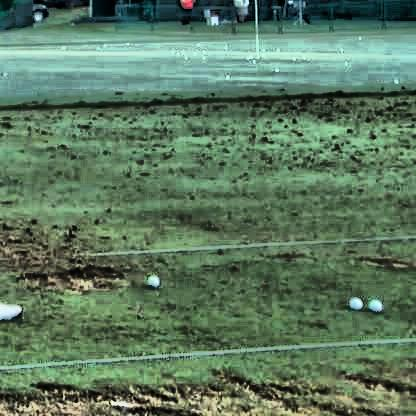golfball: (143, 272, 156, 285)
